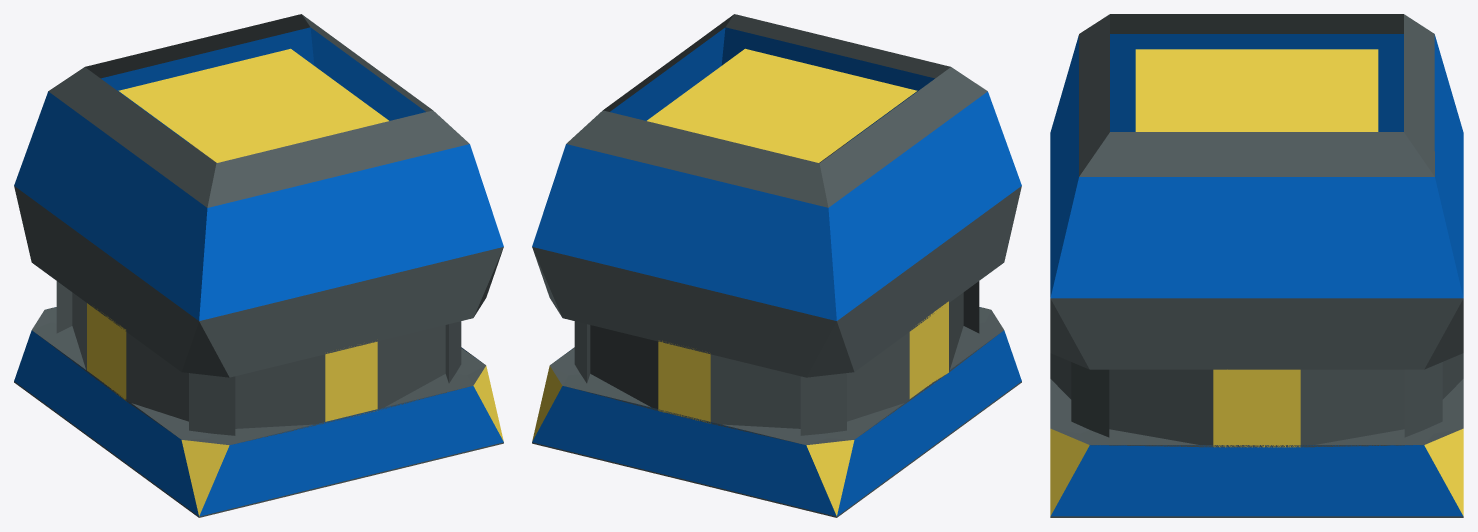
File: tower_blue.glb
3 views of the same model, side by side, from view 1: azimuth 30°, elevation 25°; view 2: azimuth 150°, elevation 25°; view 3: azimuth 270°, elevation 25° (orthographic). The views are drawn at different scales.
Visible parts, largest first — view 1: Cube-col; view 2: Cube-col; view 3: Cube-col.
Boxes of the visible parts, <box> form: Cube-col: <box>14,14,503,517</box>; Cube-col: <box>532,14,1021,517</box>; Cube-col: <box>1050,14,1463,517</box>.
Size of the model in its own units: 8.43 by 8.58 by 8.87.
